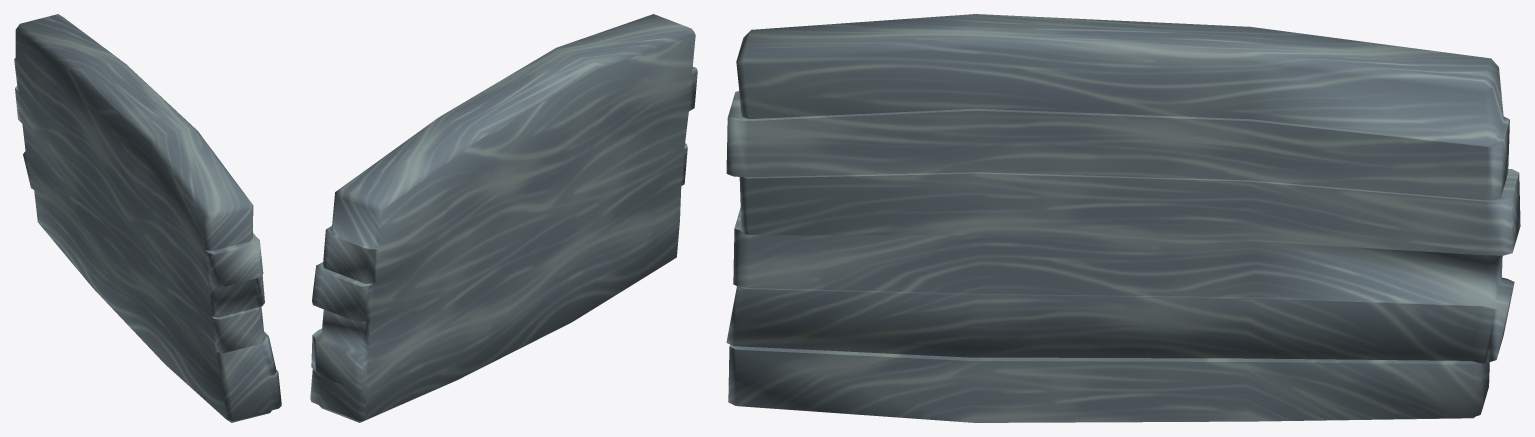
Rendered from BlankSign_NoPost.fbx.
The picture shows the model from 3 angles, left to right: view 1: azimuth 30°, elevation 25°; view 2: azimuth 150°, elevation 25°; view 3: azimuth 270°, elevation 25°; orthographic projection. The views are drawn at different scales.
Parts seen in each view (by area): view 1: BlankSign_NoPost; view 2: BlankSign_NoPost; view 3: BlankSign_NoPost.
Boxes of the visible parts, <box> form: BlankSign_NoPost: <box>14,14,281,422</box>; BlankSign_NoPost: <box>310,14,697,422</box>; BlankSign_NoPost: <box>726,14,1520,422</box>.
Bounding box in the file's own units: 0.2352 × 0.4592 × 0.8802.
